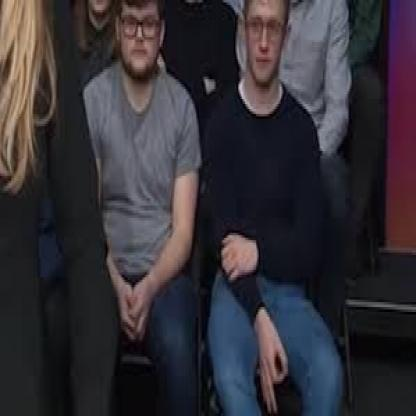ok: (256, 323, 292, 416)
